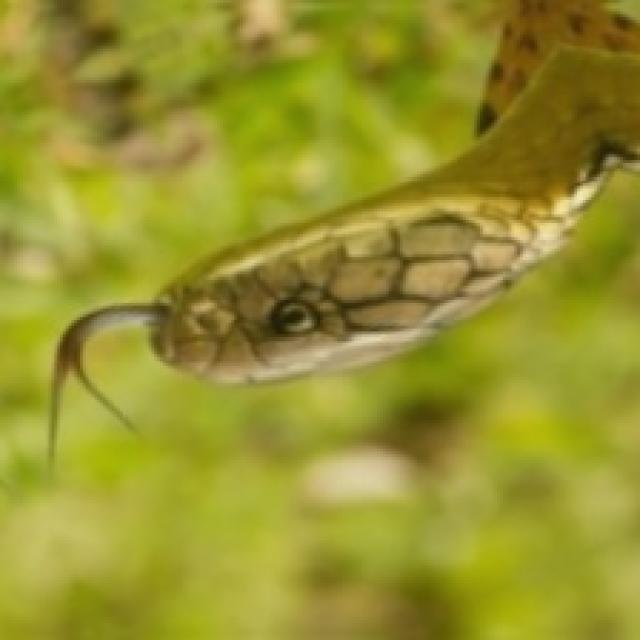king cobra: (49, 0, 637, 460)
